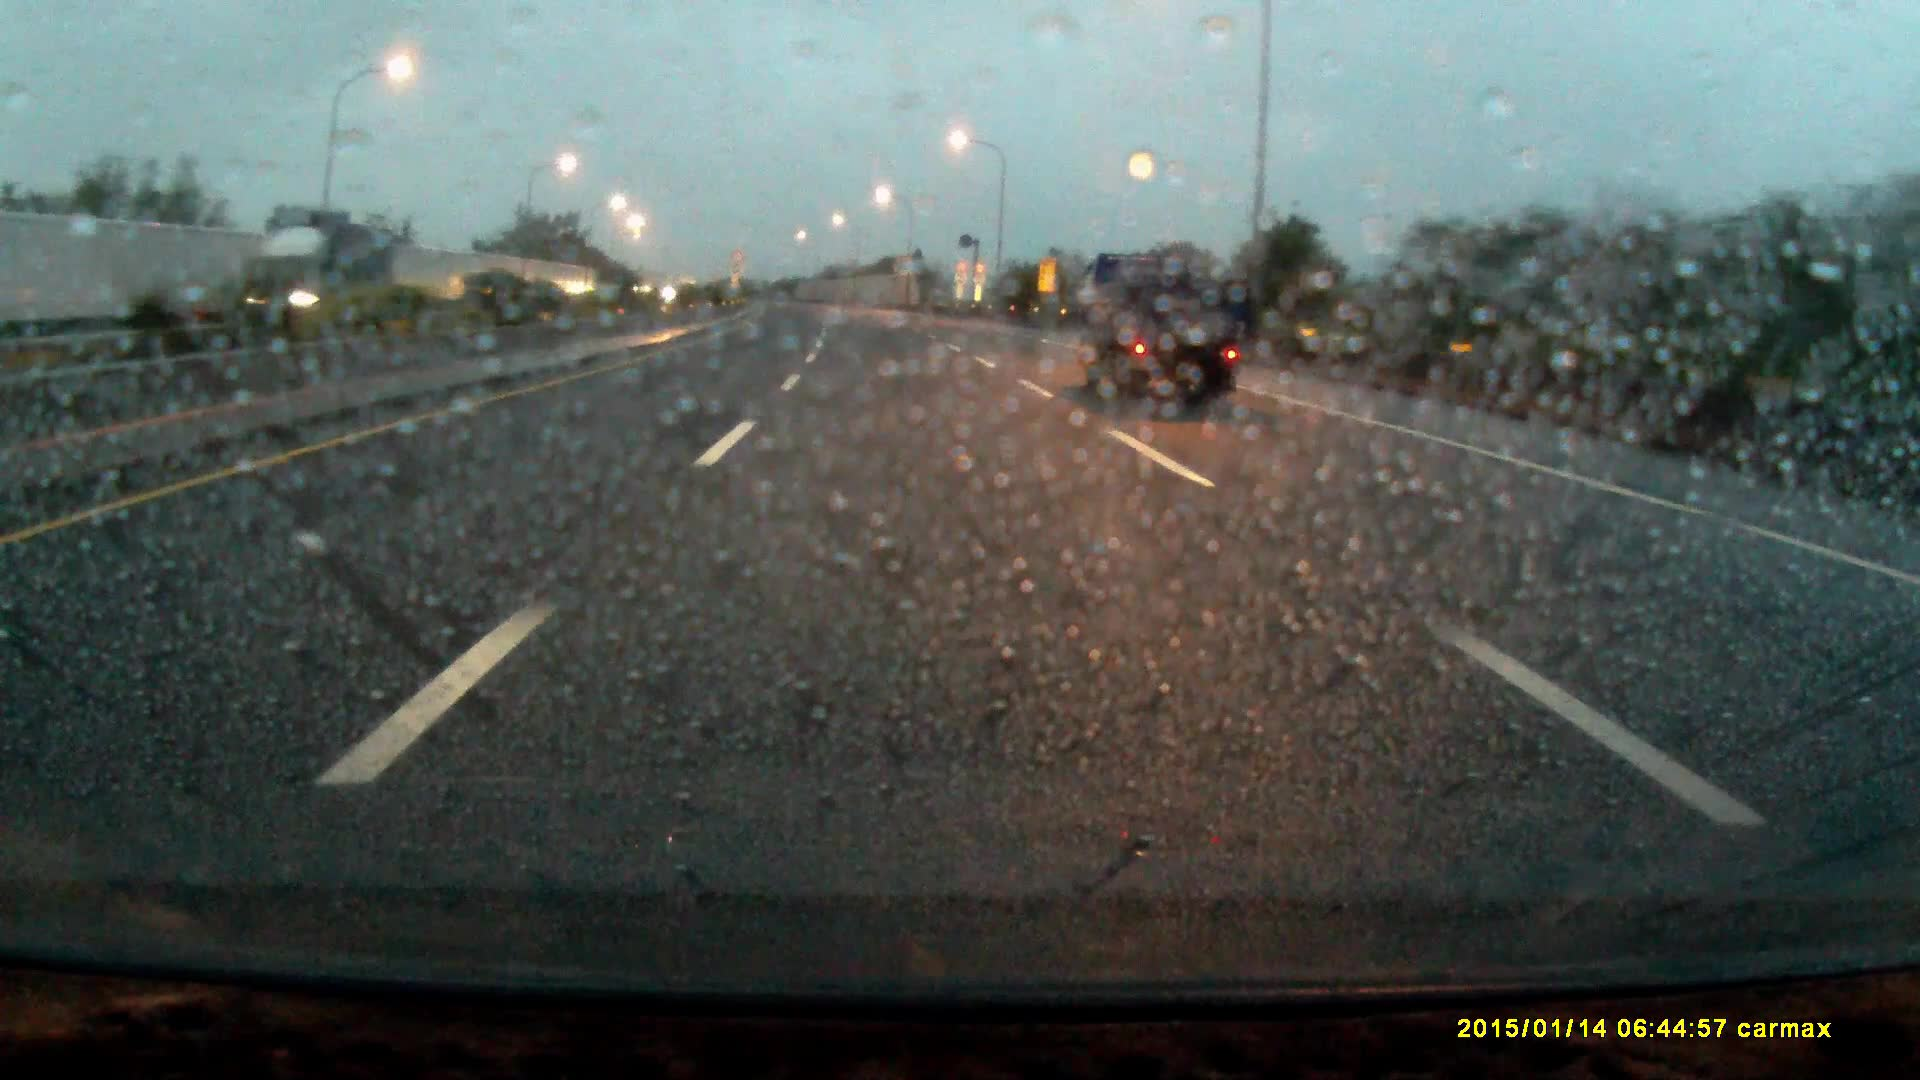vehicle: (1071, 248, 1236, 406), (237, 219, 382, 338)
